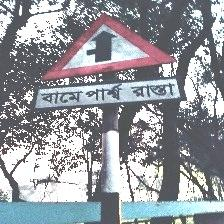Side-road-left: (36, 12, 181, 113)
